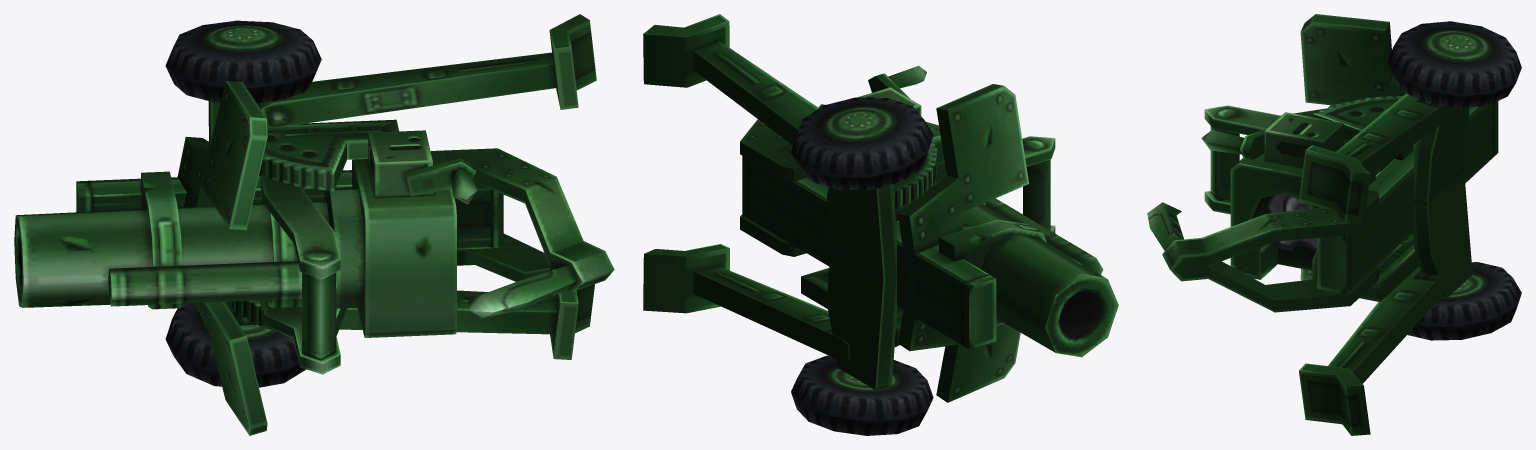
File: cannonrip03_14b47357.glb
3 views of the same model, side by side, from view 1: azimuth 30°, elevation 25°; view 2: azimuth 150°, elevation 25°; view 3: azimuth 270°, elevation 25° (orthographic). The views are drawn at different scales.
Bounding box in the file's own units: 2.07 × 1.21 × 1.44.
Materials: 1 (1 with a texture image).
